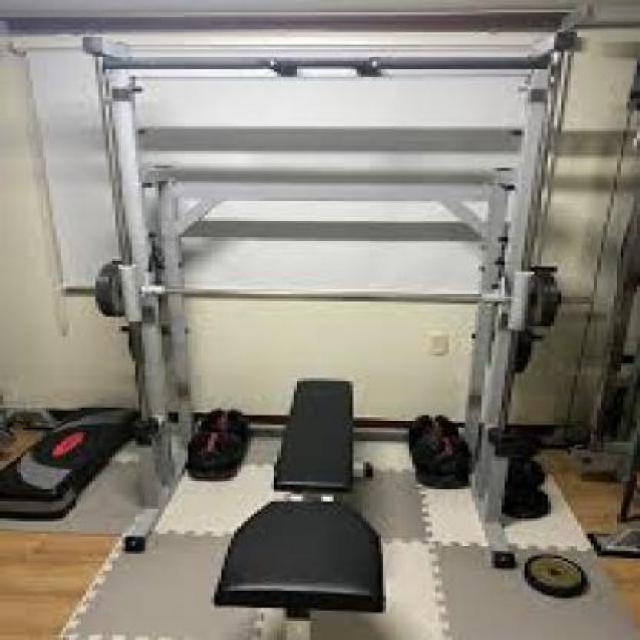smith machine: (68, 34, 595, 569)
